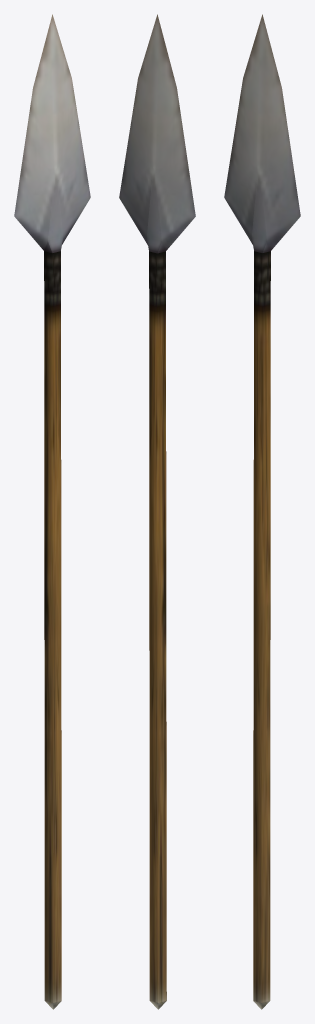
Rendered from commonLance.glb.
3 renders of one model, left to right at view 1: azimuth 30°, elevation 25°; view 2: azimuth 150°, elevation 25°; view 3: azimuth 330°, elevation 25°, orthographic.
Parts seen in each view (by area): view 1: commonLance; view 2: commonLance; view 3: commonLance.
Boxes of the visible parts, <box> form: commonLance: <box>14,14,90,1009</box>; commonLance: <box>119,14,195,1009</box>; commonLance: <box>224,14,300,1009</box>.
Bounding box in the file's own units: 0.203 × 2.52 × 0.0425.
1 material, 1 textured.
